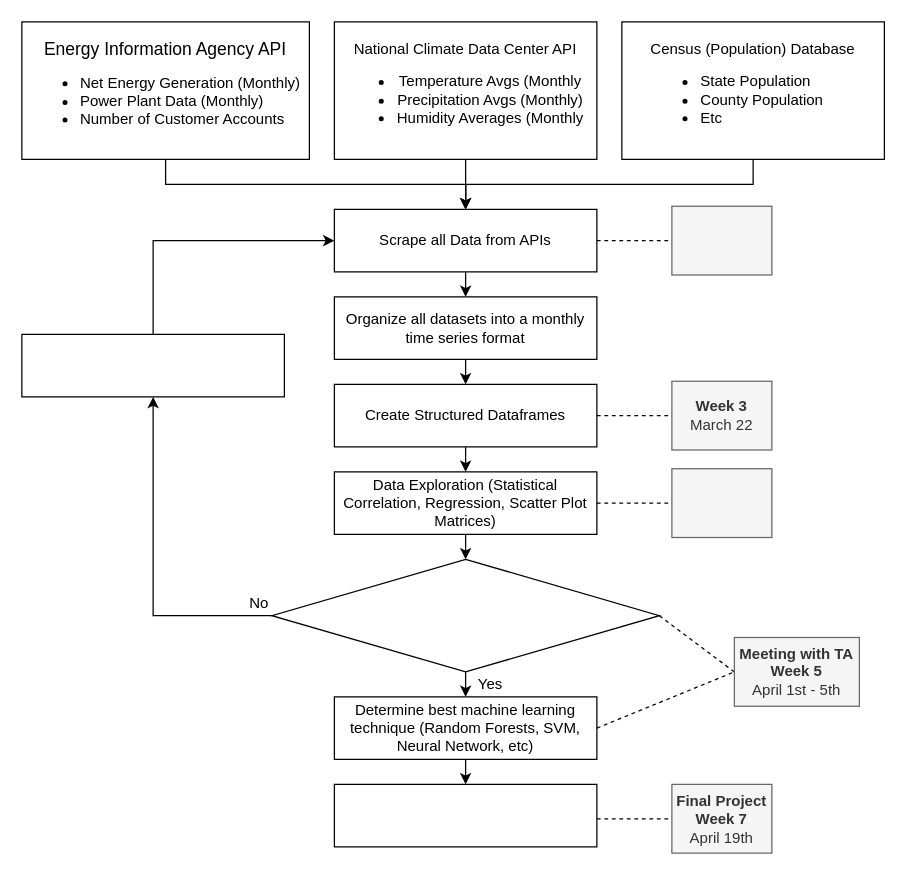
This 906x875 diagram has some shape labels left out. Each missing label, with the centre of its shape:
Consider Additional Data or Pivot Analysis as Necessary: the point at 152,365
Implement Learning and Finish Project: the point at 465,815
Milestone 1 Week 4 March 31st: the point at 721,503
Reasonable Correlations Found? Machine Learning Techniques Possible?: the point at 465,615
Week 1 Mar 8th: the point at 721,240
